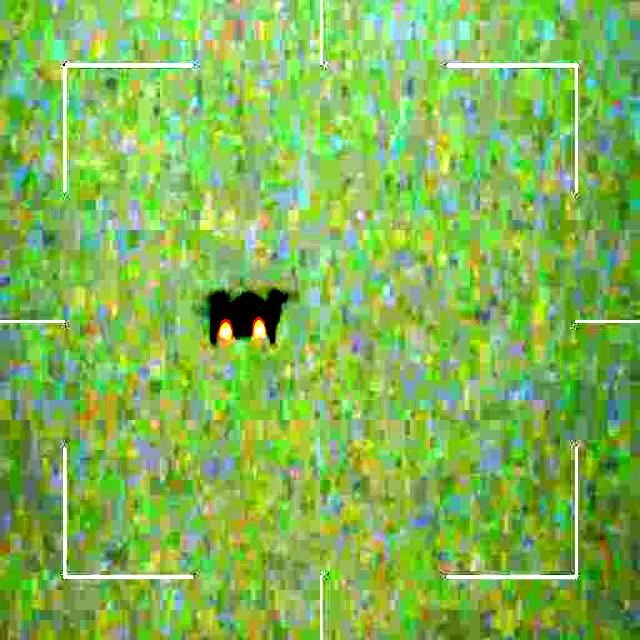bird: (204, 288, 294, 342)
